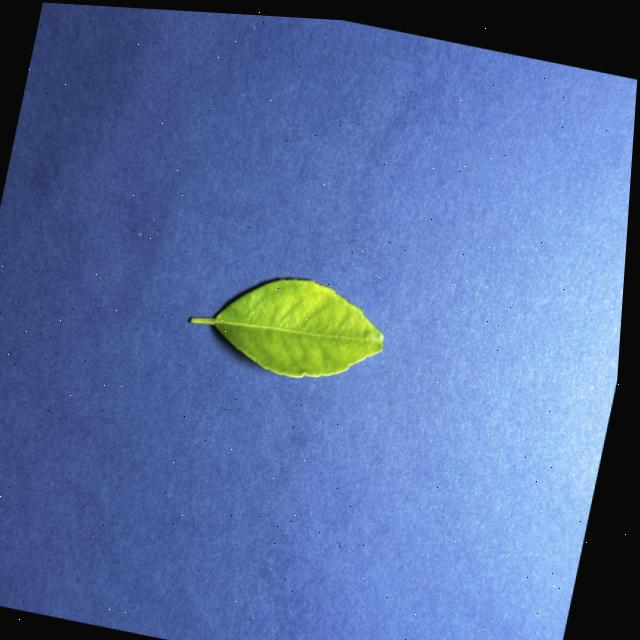greening: (188, 279, 382, 377)
